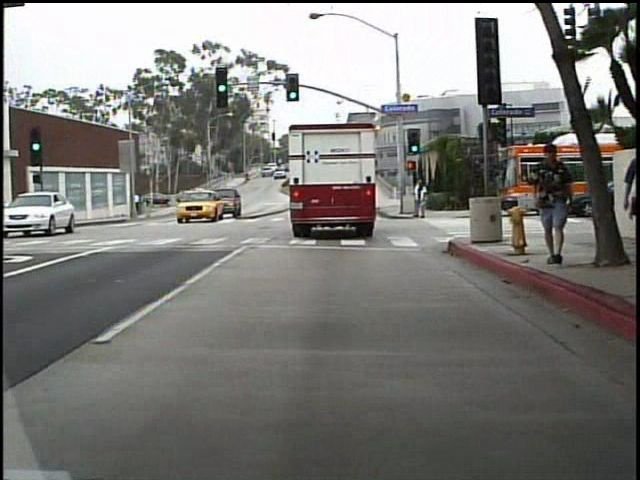person: (527, 135, 570, 274), (407, 177, 431, 223), (33, 189, 49, 230), (130, 187, 147, 220)
